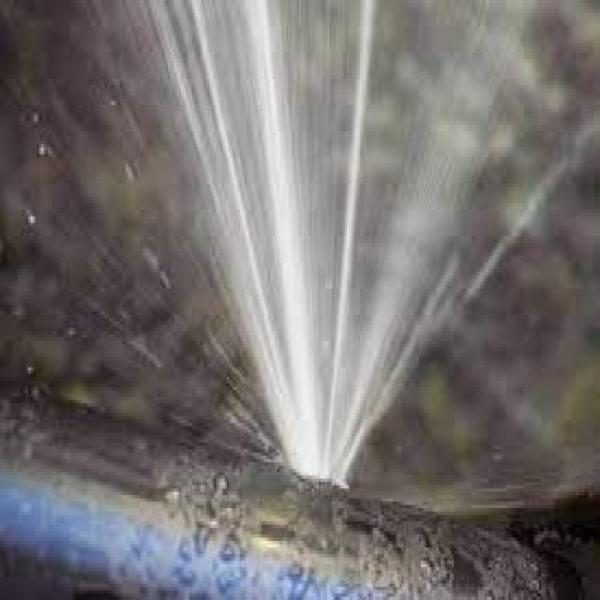water: (206, 373, 397, 588)
